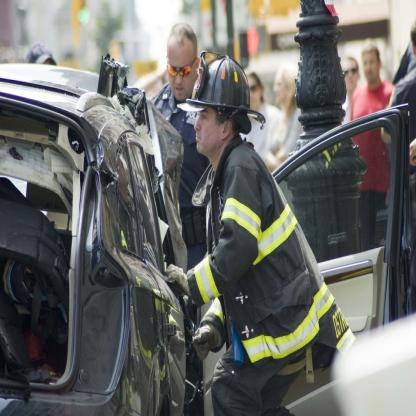Helmet: (180, 52, 252, 145)
